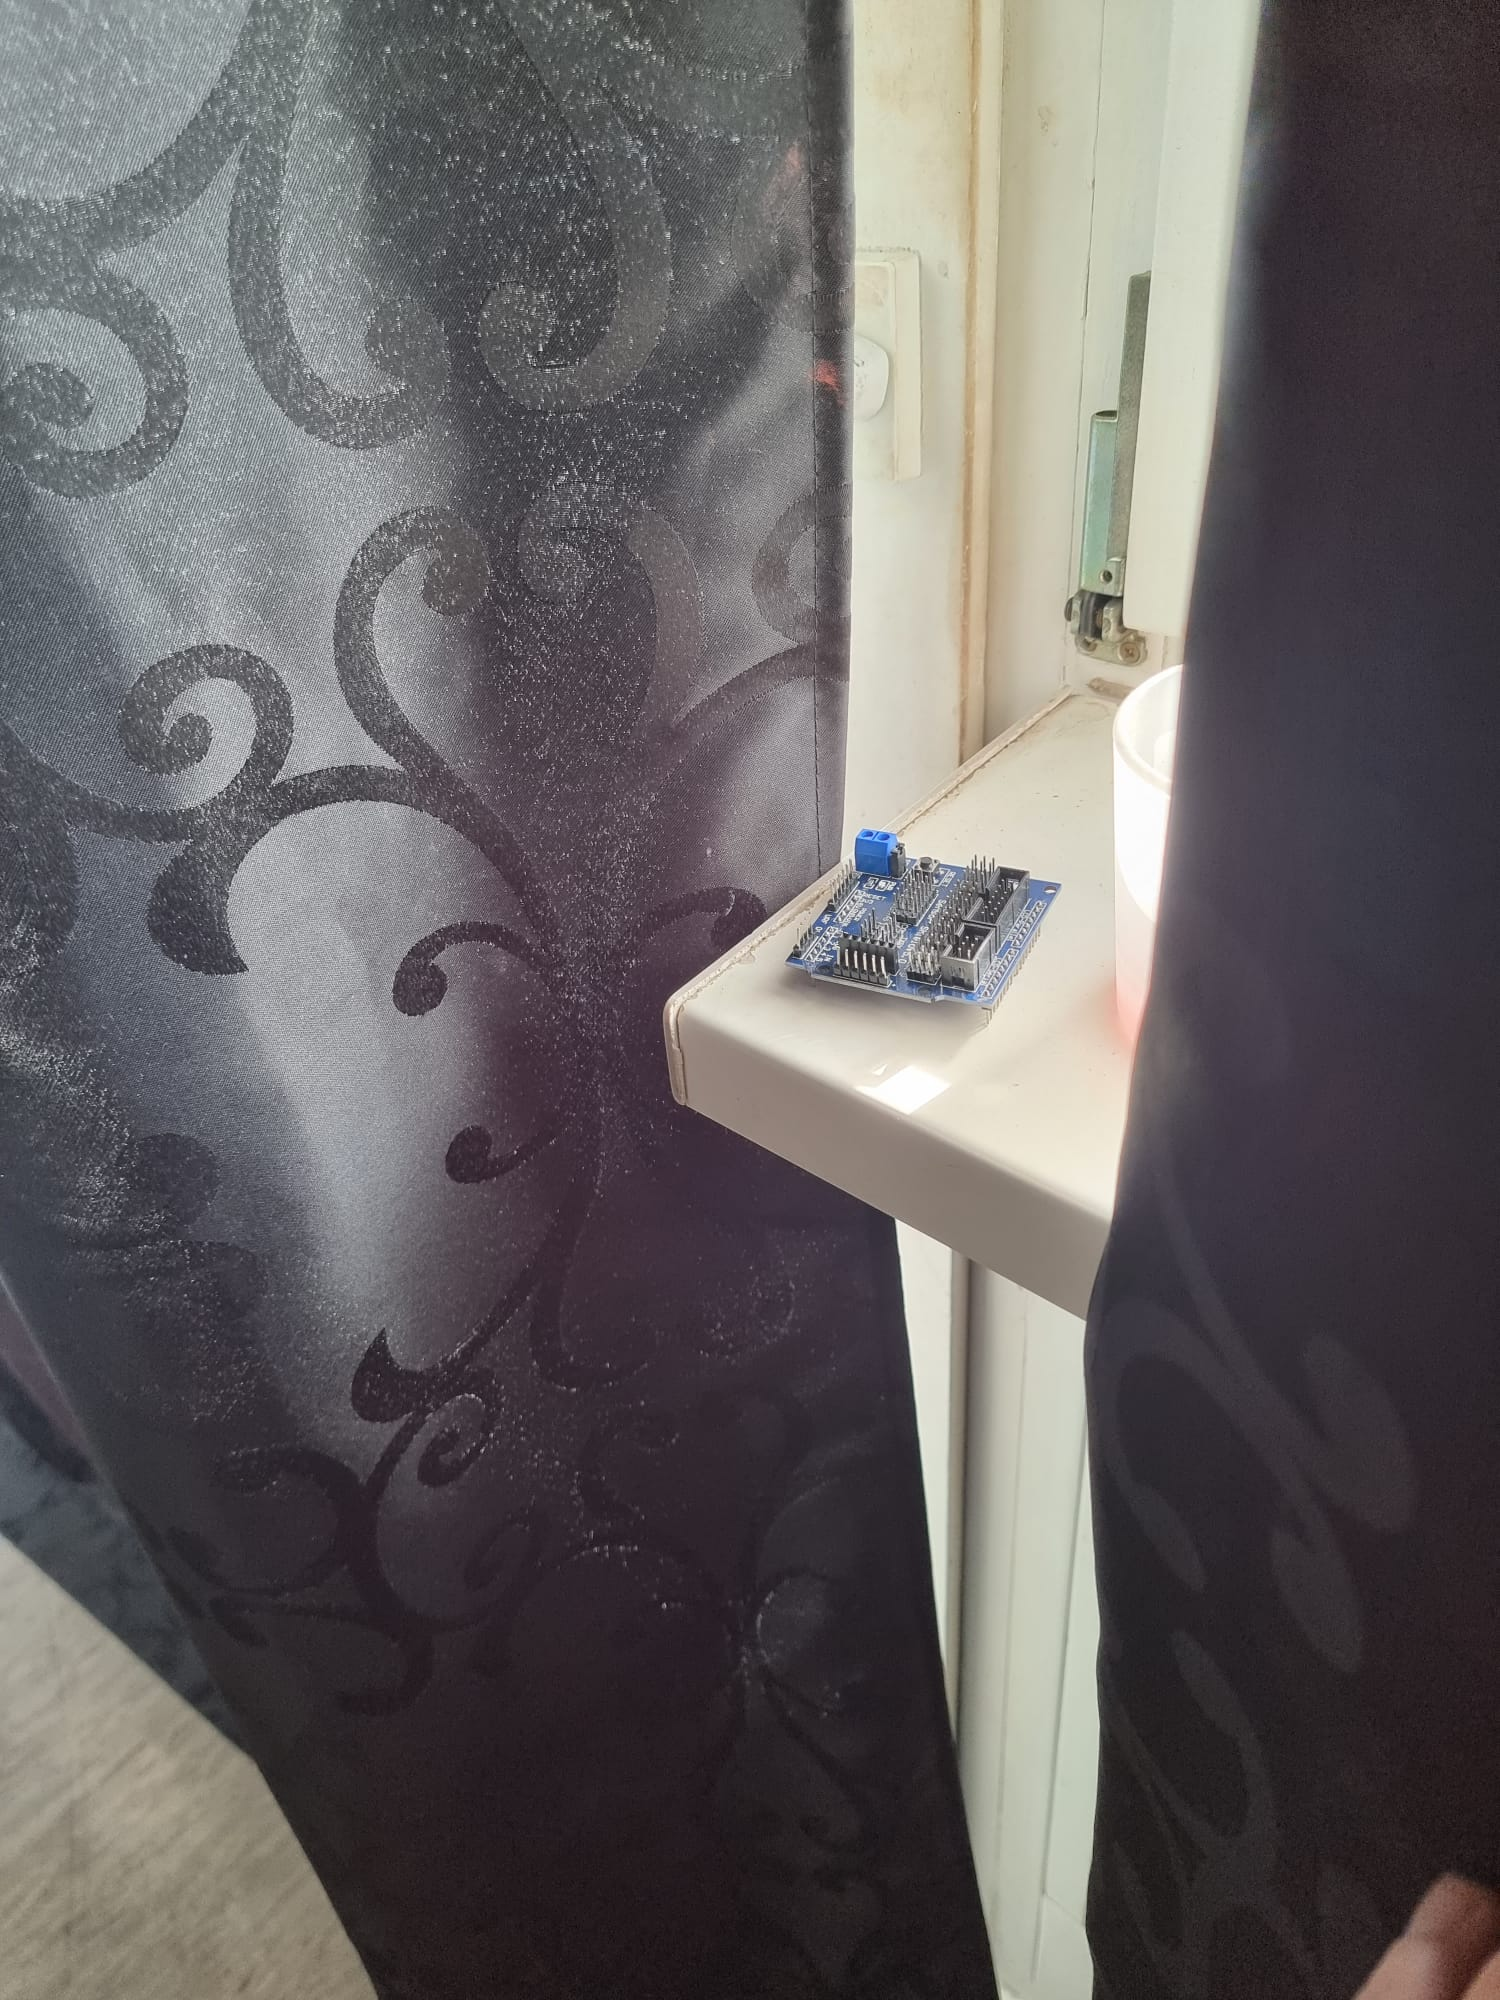5V EXPANSION: (799, 820, 1060, 1024)
